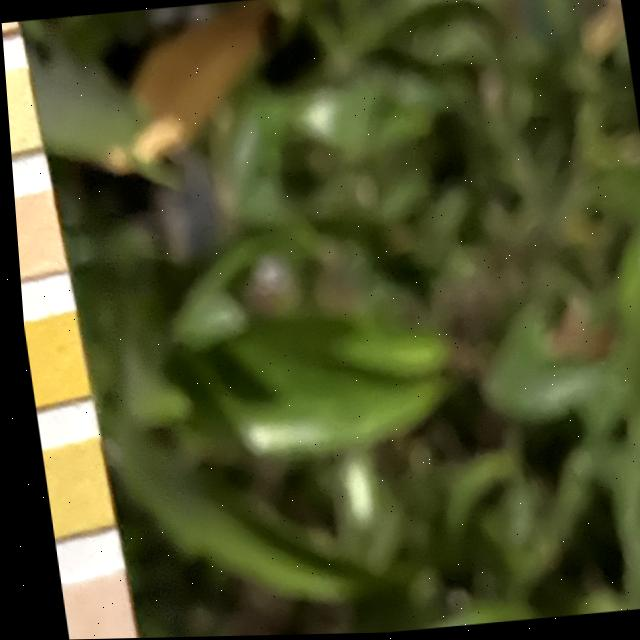Blood: (19, 317, 80, 400)
Ketone: (53, 577, 125, 640)
Protein: (4, 74, 36, 151)
SpGravity: (34, 445, 105, 532)
pH: (11, 196, 59, 274)
